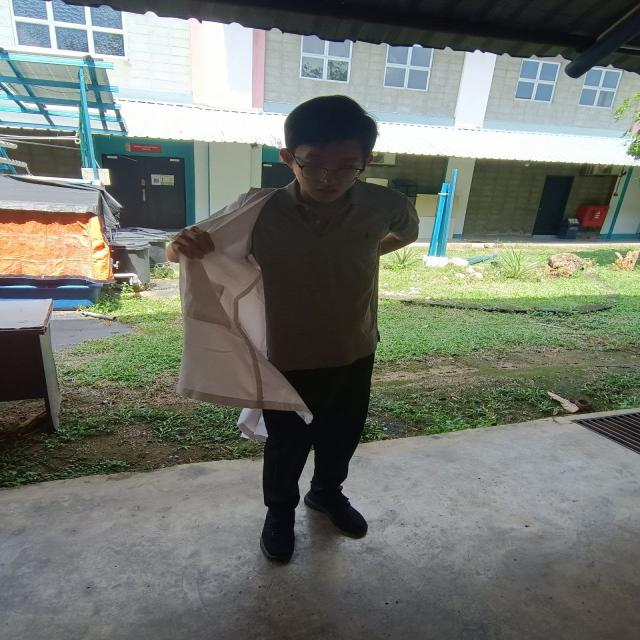person_without_labcoat: (167, 96, 418, 562)
